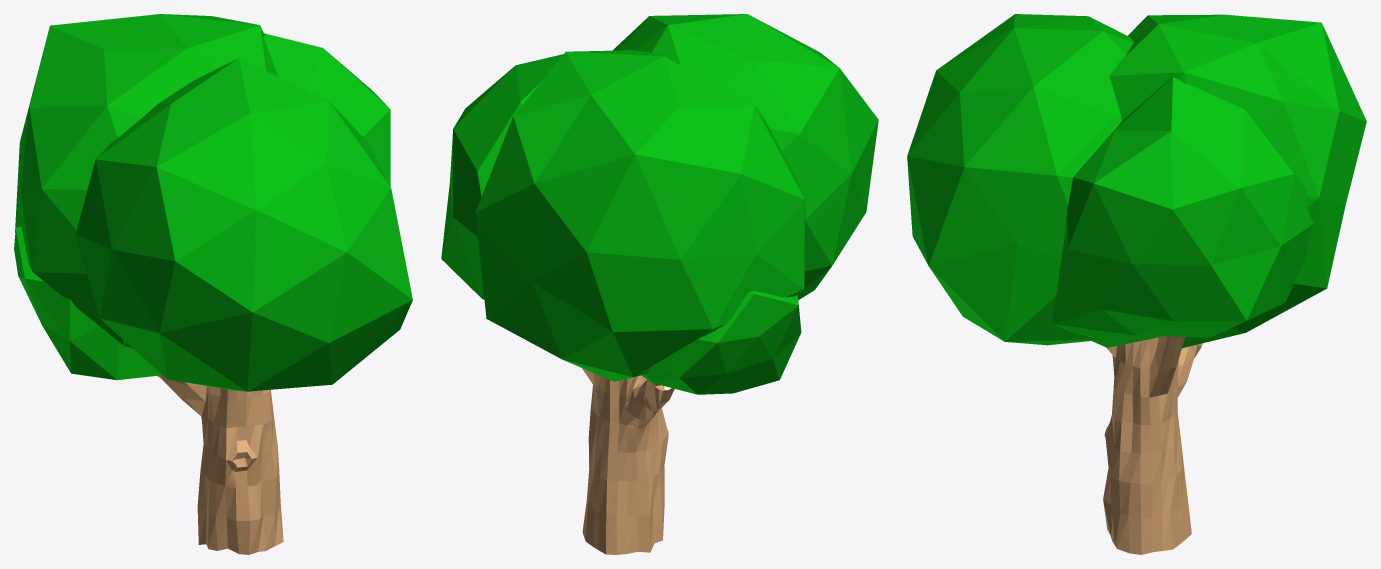
Rendered from tree_poly.glb.
The picture shows the model from 3 angles, left to right: view 1: azimuth 30°, elevation 25°; view 2: azimuth 150°, elevation 25°; view 3: azimuth 270°, elevation 25°; orthographic projection.
Visible parts, largest first — view 1: Icosphere, Cylinder; view 2: Icosphere, Cylinder; view 3: Icosphere, Cylinder.
Boxes of the visible parts, x1,y1,x2,y2 form: Icosphere: [14, 14, 412, 391]; Cylinder: [157, 375, 283, 554]; Icosphere: [441, 14, 878, 394]; Cylinder: [582, 368, 674, 554]; Icosphere: [907, 14, 1366, 348]; Cylinder: [1103, 336, 1202, 554].
Size of the model in its own units: 8.25 by 11.68 by 9.78.
